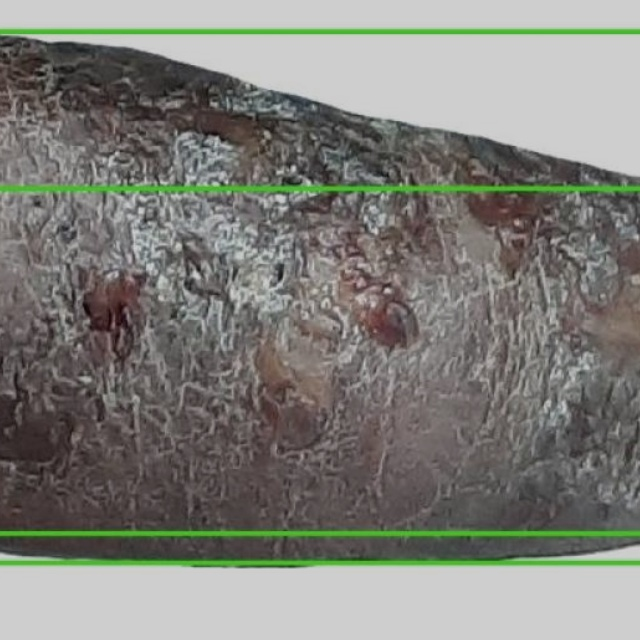Eczema: (0, 31, 639, 562)
